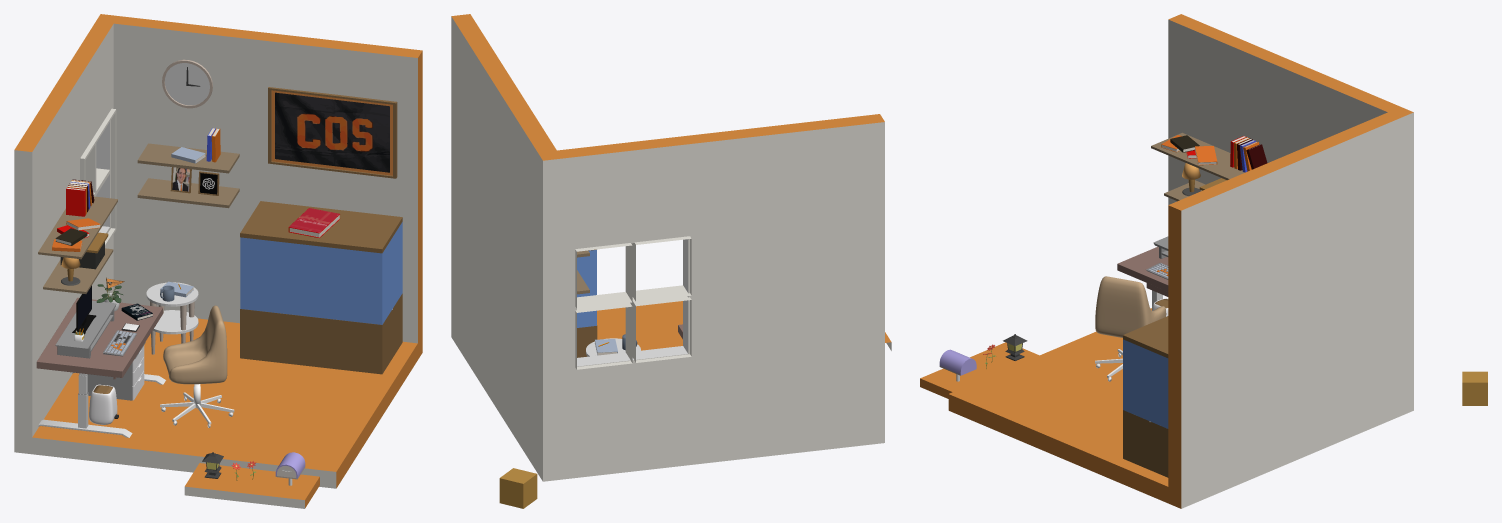
The model's file is house10.glb.
3 renders of one model, left to right at view 1: azimuth 30°, elevation 25°; view 2: azimuth 150°, elevation 25°; view 3: azimuth 270°, elevation 25°, orthographic. The views are drawn at different scales.
Parts seen in each view (by area): view 1: Room, fish tank, cos, Table Base, Shelf 1, Shelf 2, Garden Floor, Chair seat, Desk Content, Stool, Clock, cos226 (+3 smaller); view 2: Room, fish tank, cubicle, Stool; view 3: Room, fish tank, Shelf 1, Chair seat, Garden Floor, Table Base, cubicle, Mailbox.
Part boxes in pixels (x1,y1,x2,y2): Room: [14, 14, 422, 488]; fish tank: [240, 201, 402, 374]; cos: [268, 87, 397, 178]; Table Base: [36, 297, 165, 437]; Shelf 1: [38, 179, 117, 293]; Shelf 2: [137, 128, 239, 208]; Garden Floor: [184, 463, 319, 508]; Chair seat: [163, 305, 227, 384]; Desk Content: [55, 284, 139, 358]; Stool: [146, 281, 198, 354]; Clock: [162, 59, 212, 108]; cos226: [288, 208, 339, 237]; Room: [451, 14, 884, 481]; fish tank: [577, 249, 597, 357]; cubicle: [499, 468, 537, 508]; Stool: [586, 334, 640, 356]; Room: [948, 14, 1413, 508]; fish tank: [1123, 316, 1168, 477]; Shelf 1: [1151, 132, 1267, 201]; Chair seat: [1095, 276, 1166, 337]; Garden Floor: [920, 342, 1039, 398]; Table Base: [1117, 246, 1168, 316]; cubicle: [1462, 371, 1487, 405]; Mailbox: [939, 349, 976, 381].
Size of the model in its own units: 23.29 by 16.47 by 28.41.
91 materials, 7 textured.
